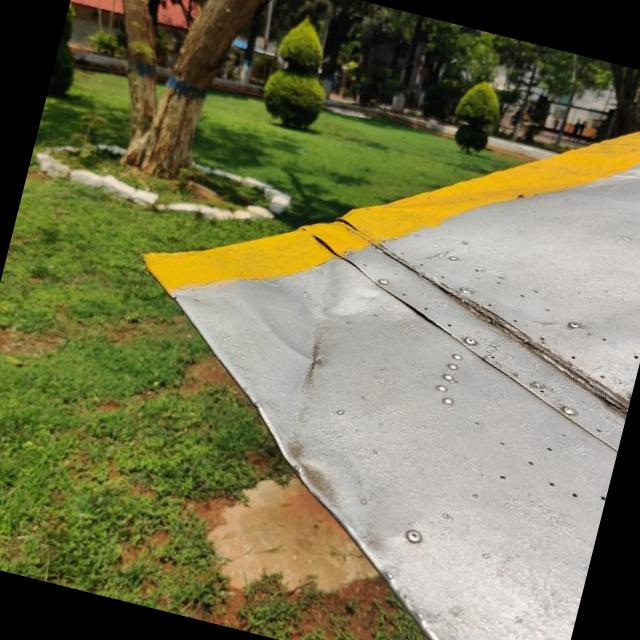Dent: (269, 420, 352, 527)
